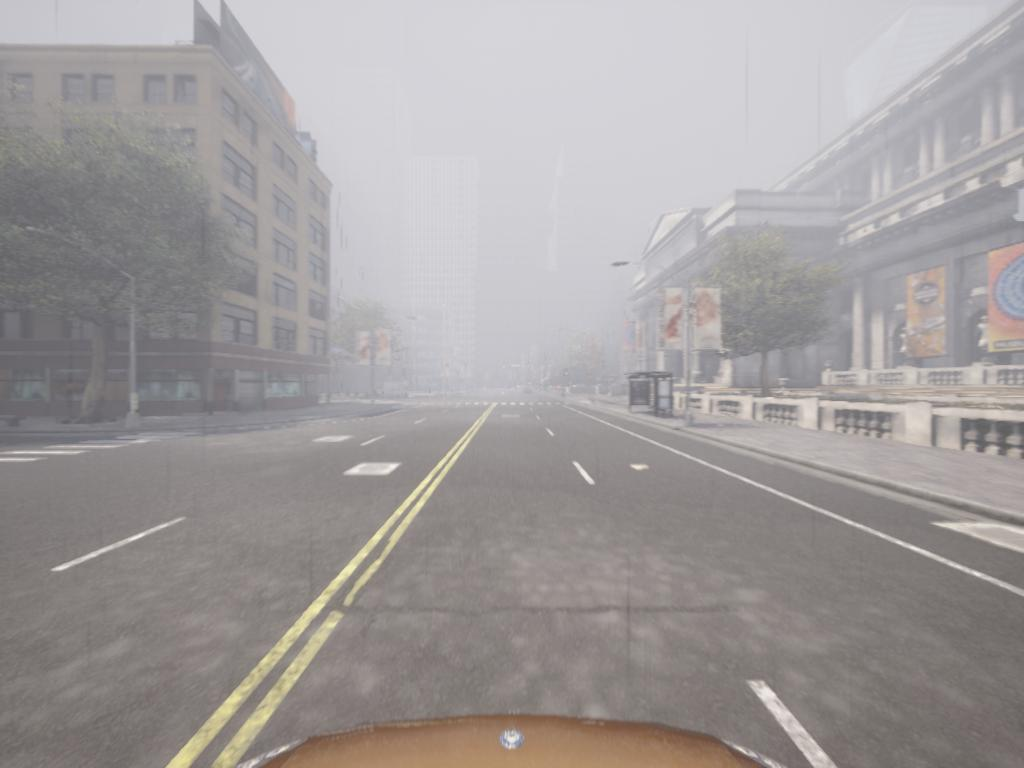traffic_light: (565, 365, 571, 382)
